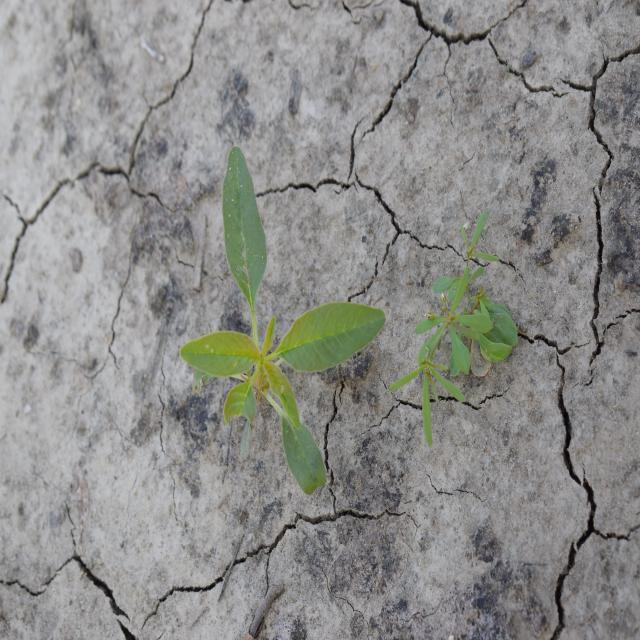Carpetweed: (388, 208, 520, 449)
Waterhemp: (180, 141, 388, 499)
